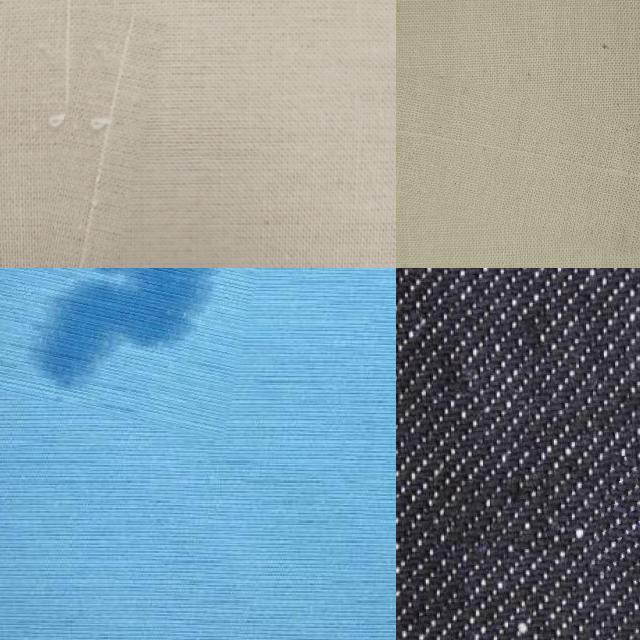Hole: (0, 268, 272, 426)
Thread_other: (396, 67, 640, 251), (0, 5, 136, 268), (593, 460, 640, 592)
